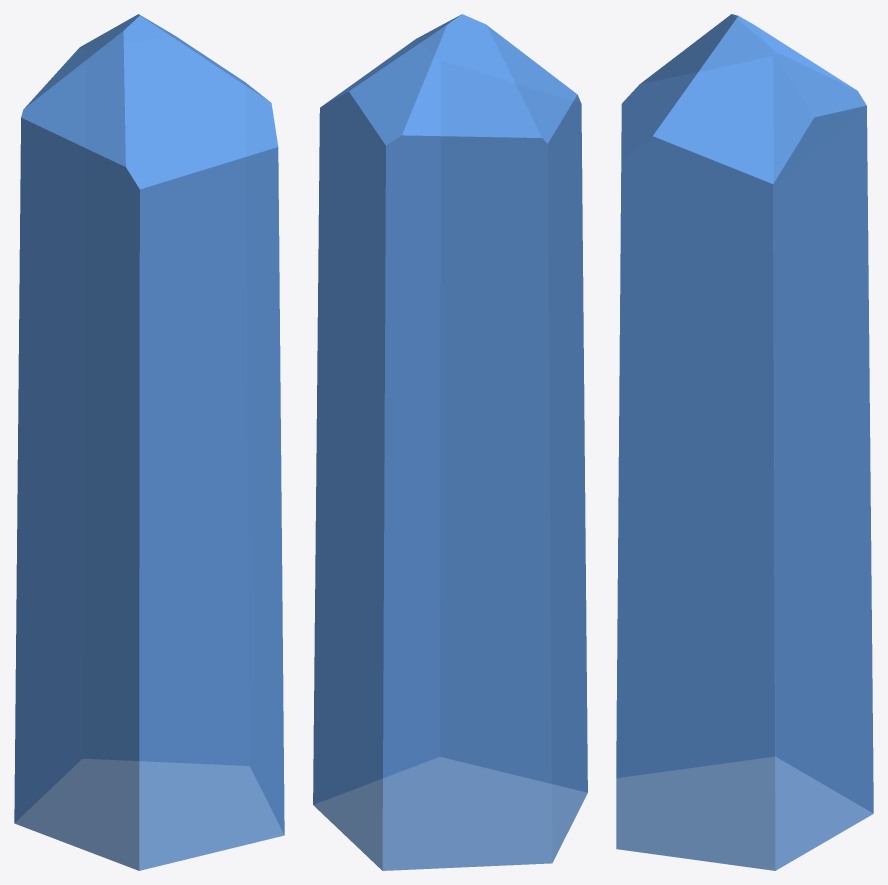
The model's file is Crystal_s_01.fbx.
3 renders of one model, left to right at view 1: azimuth 30°, elevation 25°; view 2: azimuth 150°, elevation 25°; view 3: azimuth 270°, elevation 25°, orthographic. The views are drawn at different scales.
Visible parts, largest first — view 1: Crystal_s_01; view 2: Crystal_s_01; view 3: Crystal_s_01.
Boxes of the visible parts, box(x1,y1,x2,y2) form: Crystal_s_01: box(14, 14, 284, 870); Crystal_s_01: box(313, 14, 587, 870); Crystal_s_01: box(616, 14, 873, 870).
Bounding box in the file's own units: 27.52 × 88.87 × 26.17.
